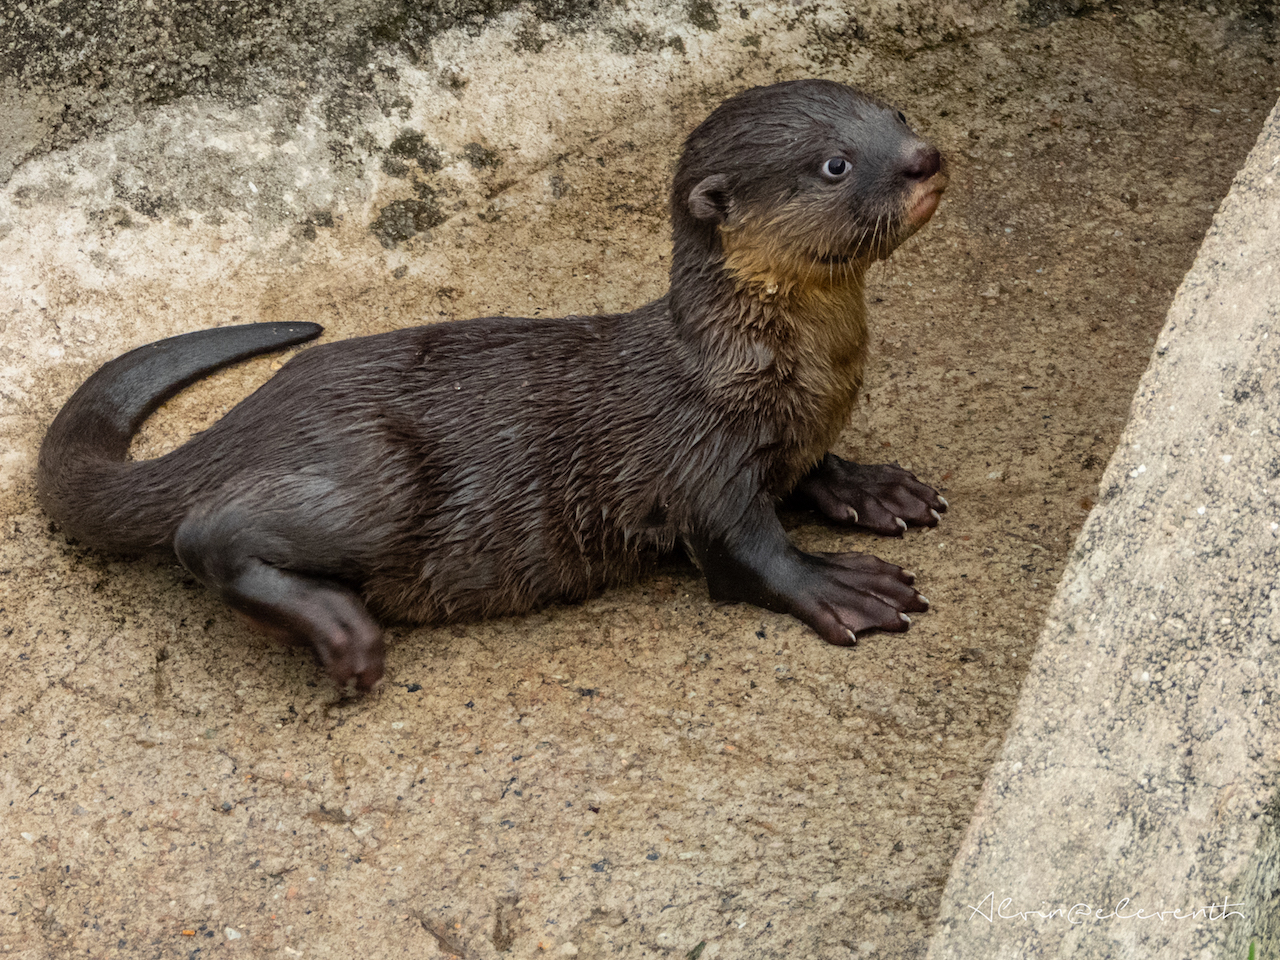otter: (25, 63, 973, 708)
